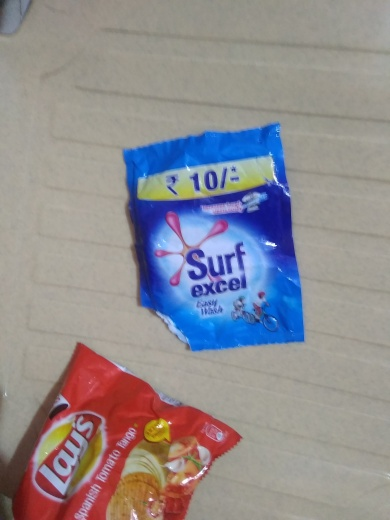lays: (14, 336, 250, 520)
surf: (109, 124, 320, 353)
